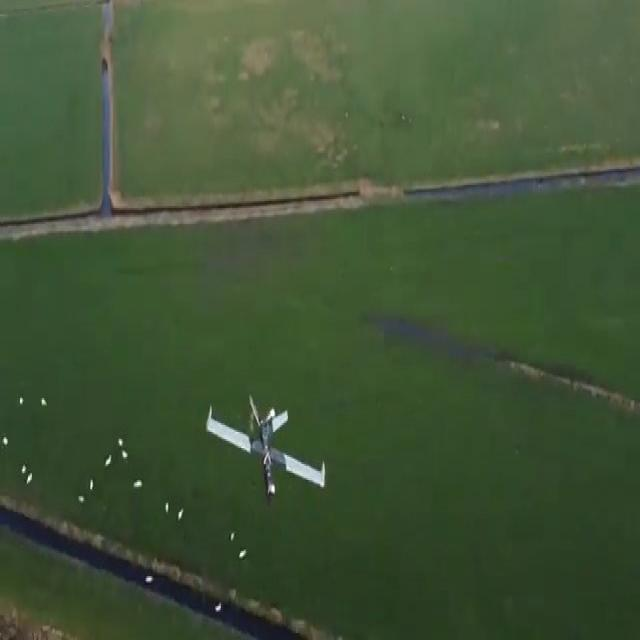drones: (205, 384, 336, 510)
